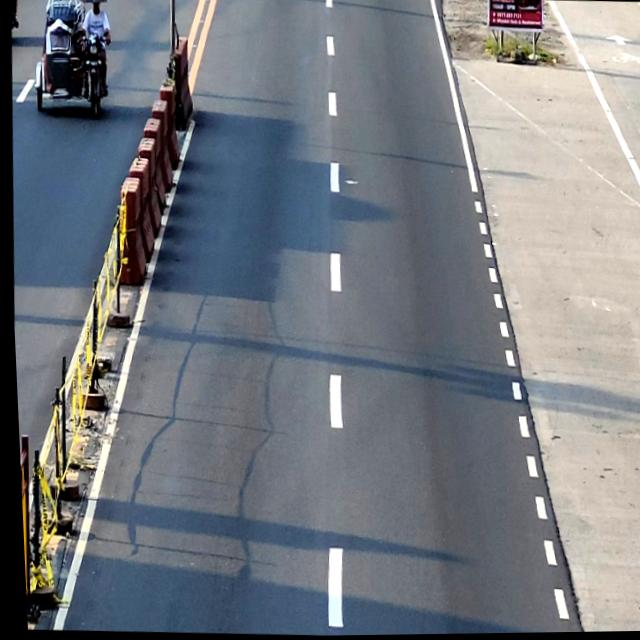Tricycle: (30, 0, 113, 116)
